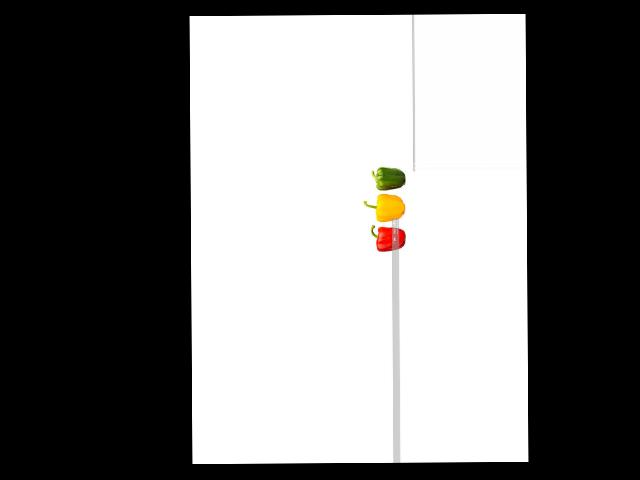bell_pepper: (367, 164, 407, 189)
